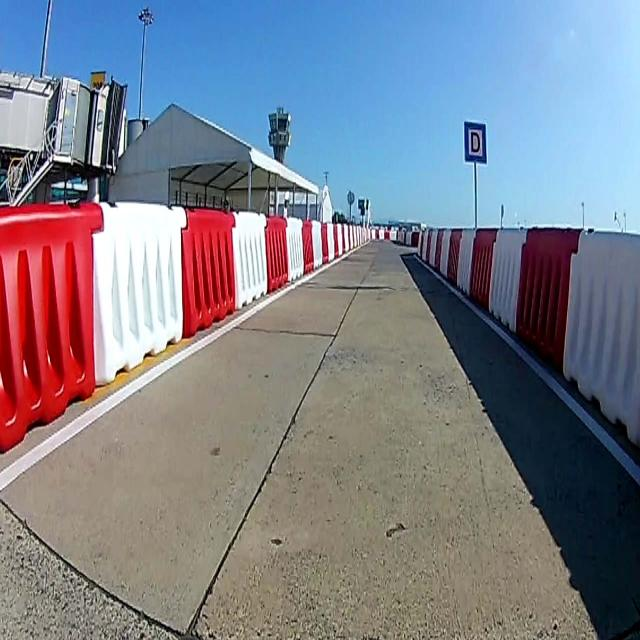durak: (464, 123, 486, 164)
